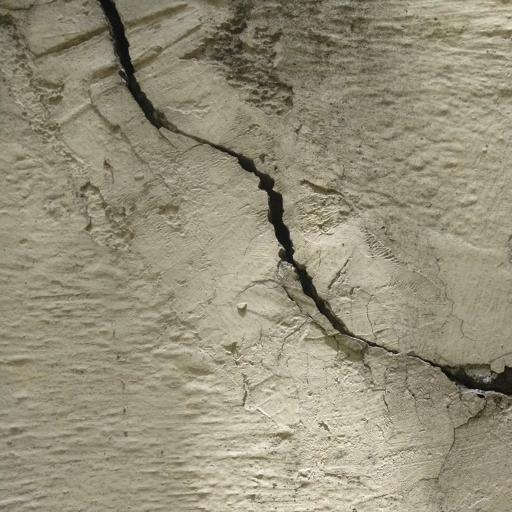major_crack: (89, 0, 511, 406)
